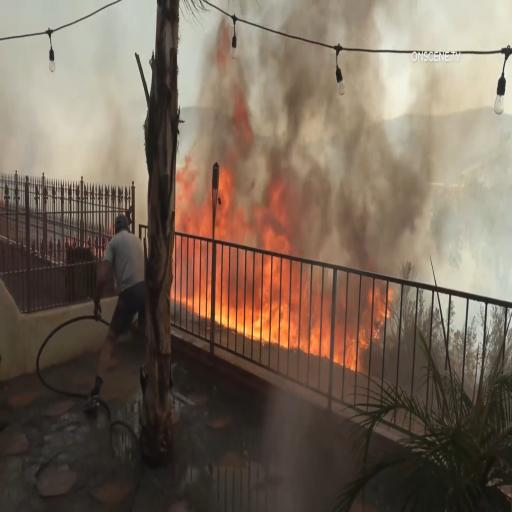fire: (221, 177, 296, 347), (302, 272, 390, 374), (180, 165, 212, 318)
smoke: (292, 96, 424, 262), (351, 17, 410, 210), (188, 56, 286, 167), (258, 6, 326, 124)
